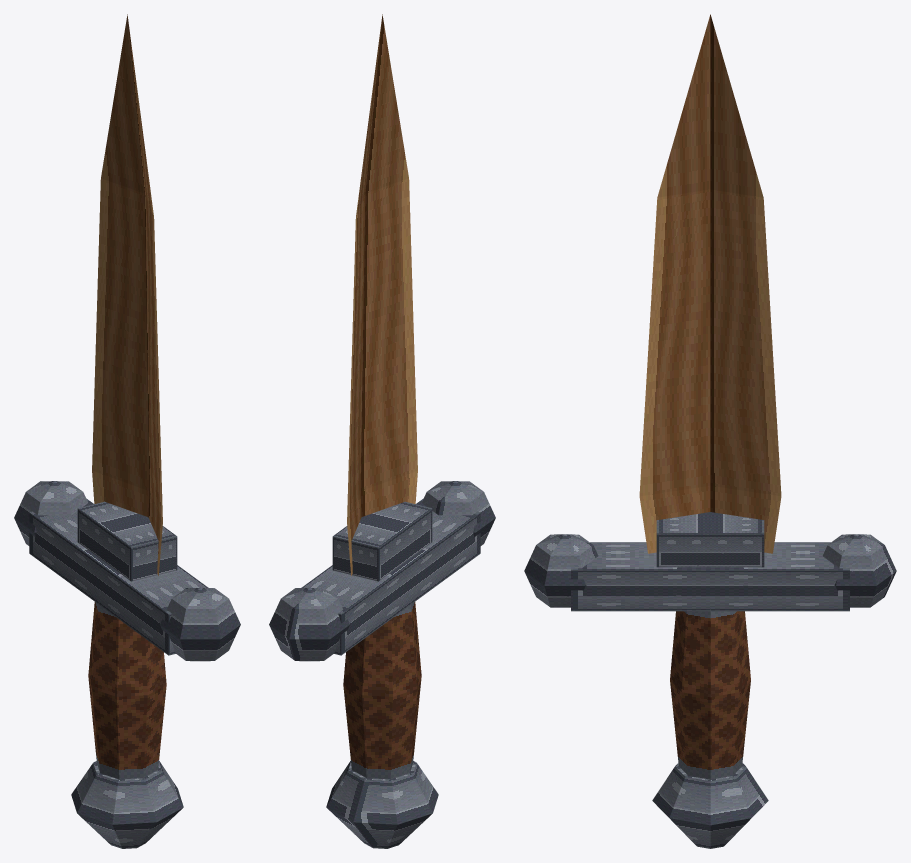
Rendered from adaga_de_madeira.glb.
The picture shows the model from 3 angles, left to right: view 1: azimuth 30°, elevation 25°; view 2: azimuth 150°, elevation 25°; view 3: azimuth 270°, elevation 25°; orthographic projection.
Parts seen in each view (by area): view 1: adaga_de_madeira; view 2: adaga_de_madeira; view 3: adaga_de_madeira.
Boxes of the visible parts, x1=… form: adaga_de_madeira: x1=14, y1=14, x2=240, y2=848; adaga_de_madeira: x1=269, y1=14, x2=495, y2=848; adaga_de_madeira: x1=524, y1=14, x2=896, y2=848.
Size of the model in its own units: 0.092 by 0.72 by 0.294.
1 material, 1 textured.
